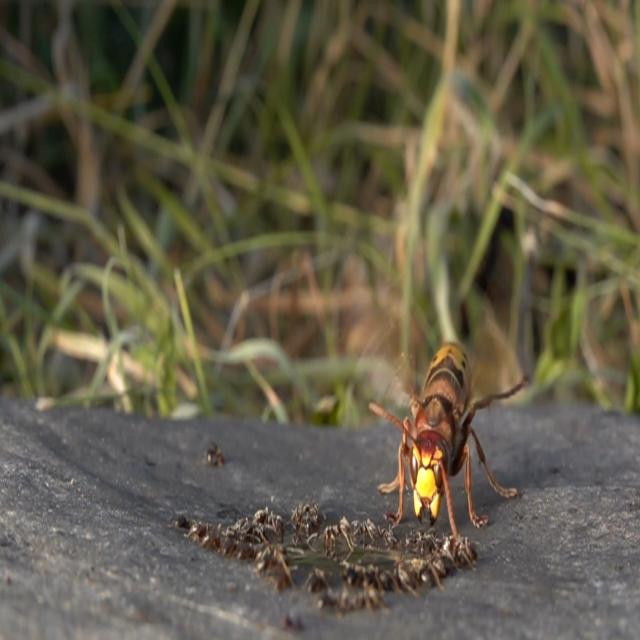Hornets: (364, 338, 538, 549)
